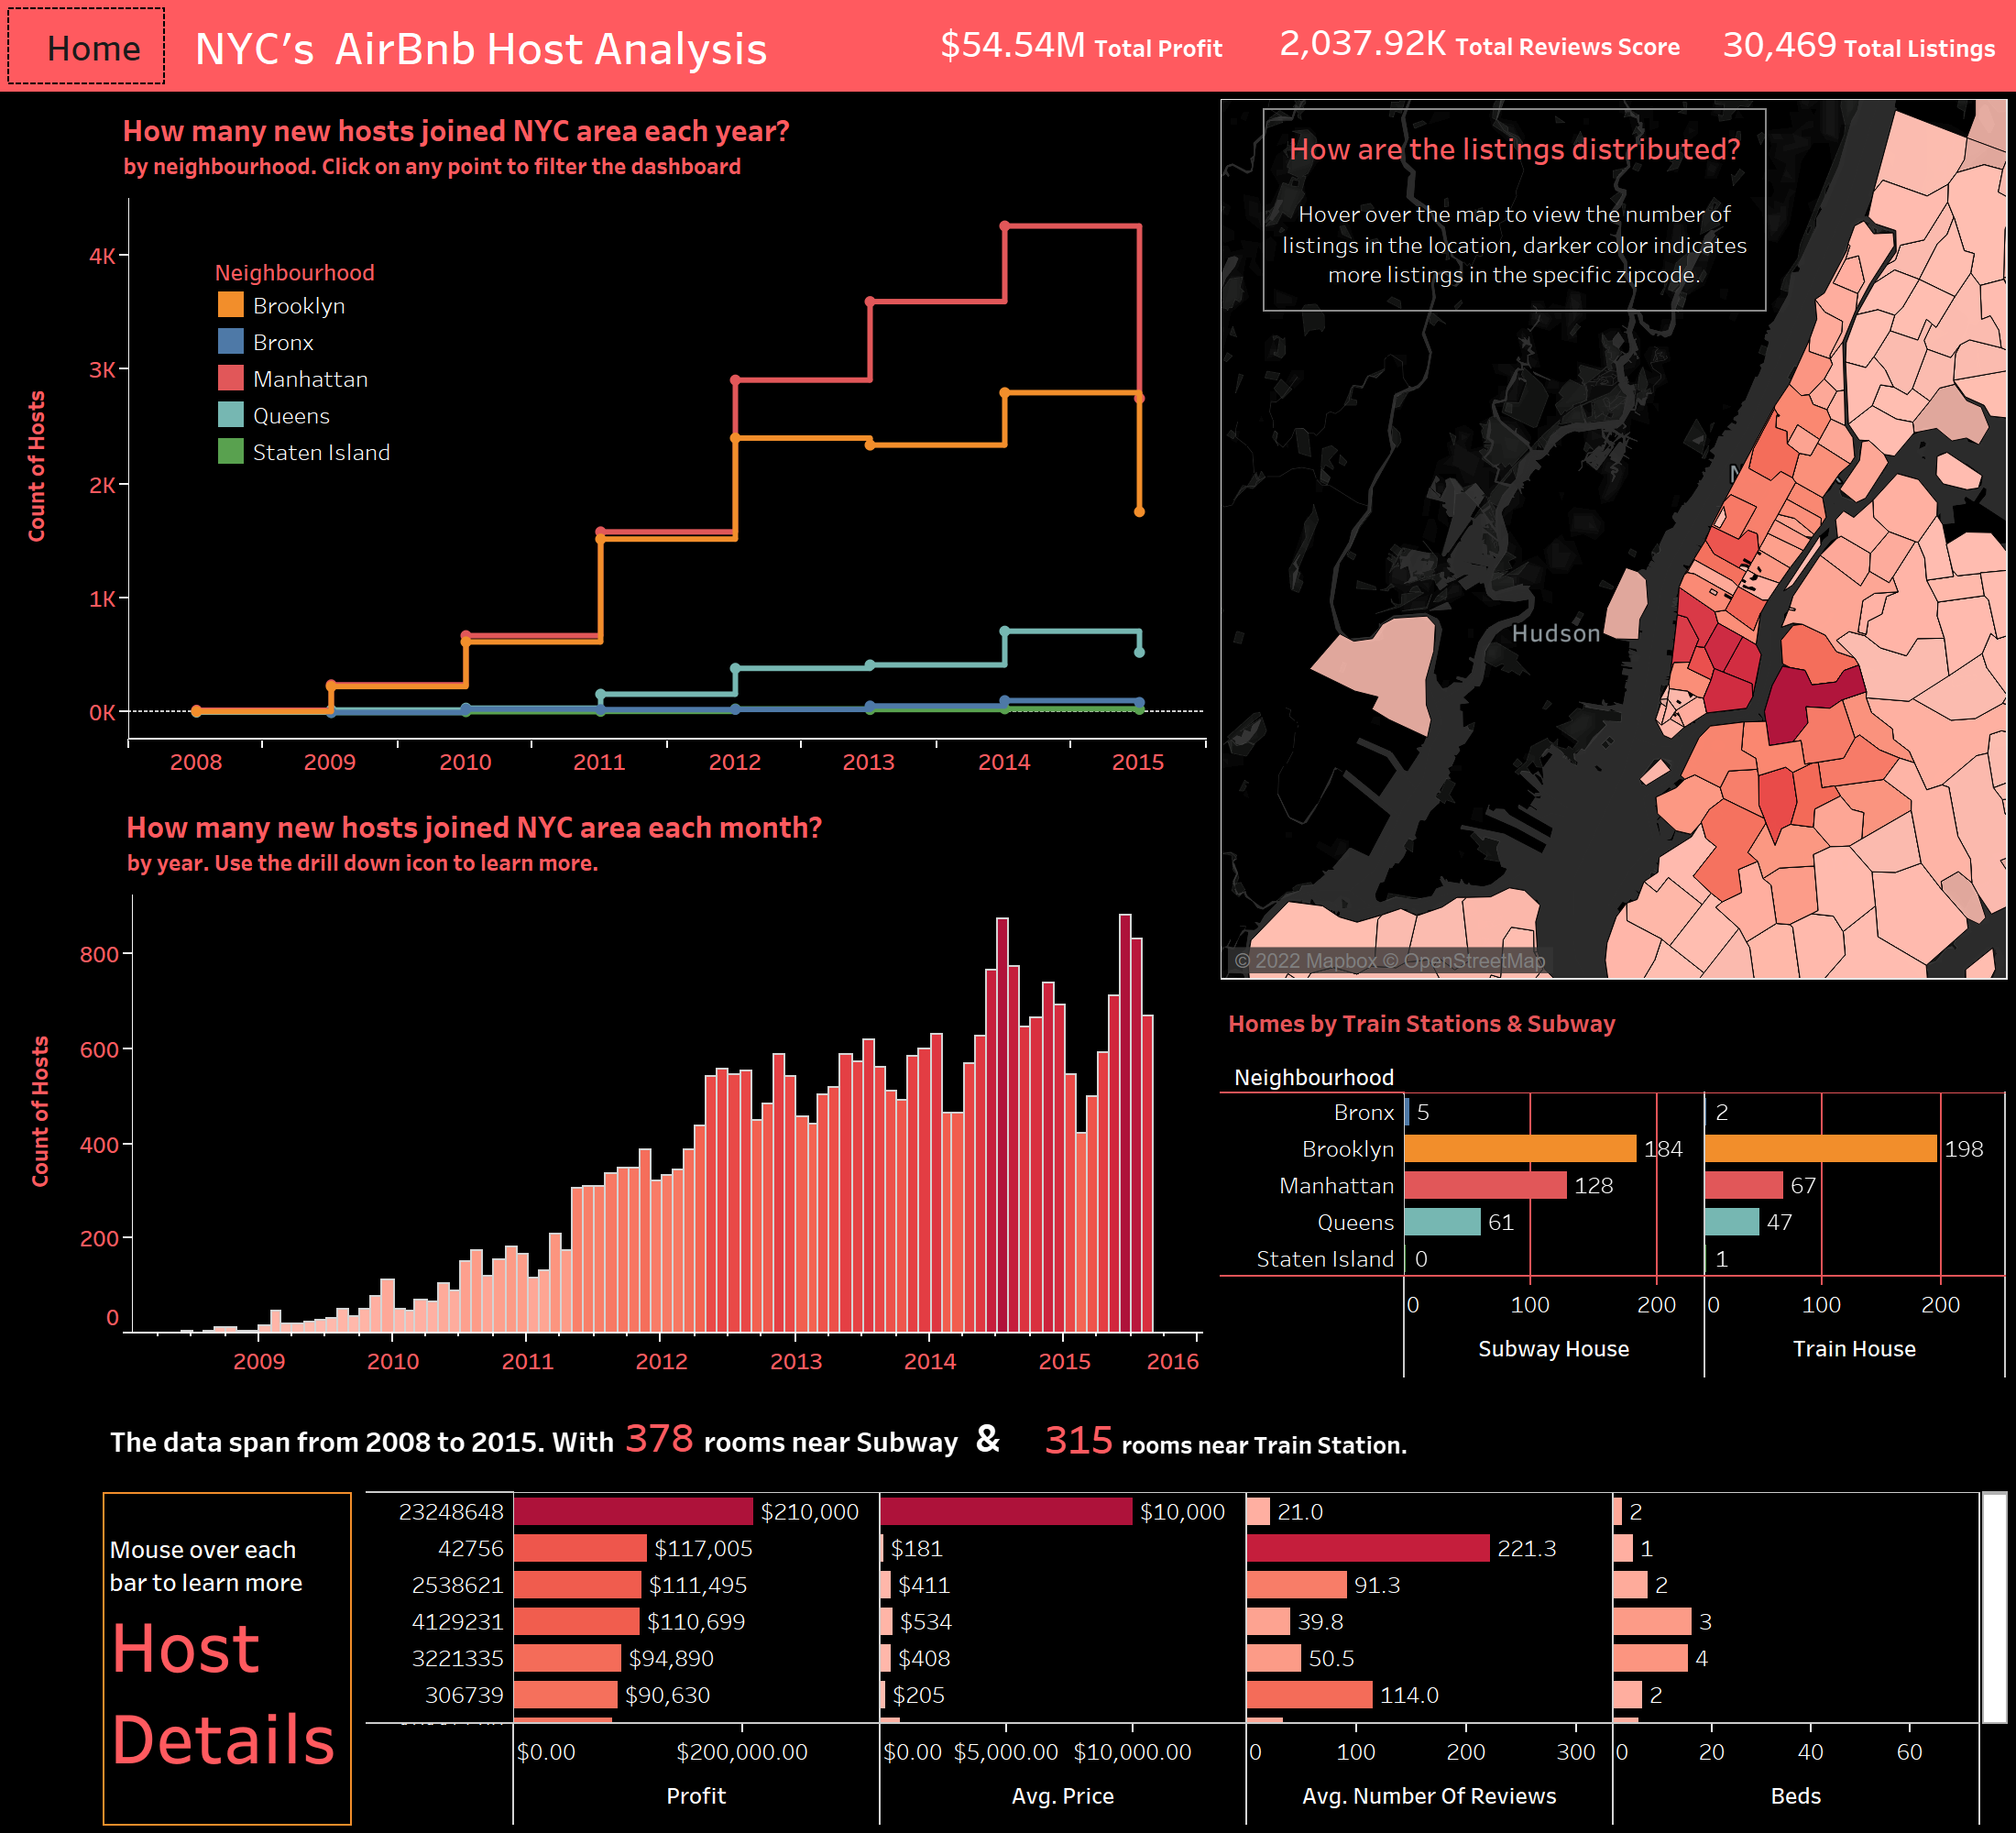

What the dashboard file says about the page in this screenshot:
{"tool":"tableau","page":{"name":"Host","canvas":[1100,1000],"ordinal":2},"visuals":[{"type":"dashboard-object","box":[0,0,94,52]},{"type":"text","box":[94,0,348,52]},{"type":"worksheet","title":"profit","mark":"Automatic","box":[442,0,152,52]},{"type":"worksheet","title":"review score","mark":"Automatic","box":[594,0,219,52]},{"type":"worksheet","title":"total listing","mark":"Automatic","box":[813,0,161,52]},{"type":"worksheet","title":"info (3)","mark":"Shape","box":[974,0,57,52]},{"type":"worksheet","title":"help (3)","mark":"Shape","box":[1031,0,69,52]},{"type":"worksheet","title":"Host by Year","mark":"Line","rows":["Calculation_796574251825901572"],"cols":["Host Since"],"box":[0,52,662,378]},{"type":"worksheet","title":"Number of Host Map","mark":"Multipolygon","box":[662,52,438,489]},{"type":"text","box":[689,59,275,111]},{"type":"legend","title":"Host by Year","param":"[federated.1h5rg7o0l3s0qj1ahh58z10ekste].[none:Neighbourhood:nk]","box":[116,138,140,118]},{"type":"worksheet","title":"Singup by month","mark":"Bar","rows":["Calculation_796574251825901572"],"cols":["Host Since"],"box":[0,430,662,333]},{"type":"worksheet","title":"sub/train house","mark":"Automatic","rows":["Neighbourhood"],"cols":["Calculation_796574251862720521","Subway House (copy)"],"box":[662,541,438,217]},{"type":"blank","box":[0,763,52,47]},{"type":"worksheet","title":"subway (2)","mark":"Automatic","box":[52,763,510,42]},{"type":"worksheet","title":"train","mark":"Automatic","box":[562,763,538,47]},{"type":"blank","box":[0,810,52,190]},{"type":"text","box":[52,810,144,190]},{"type":"worksheet","title":"Host Details","mark":"Automatic","rows":["Host Id"],"cols":["Calculation_17451516273426433","Price","Number Of Reviews","Beds"],"box":[196,810,904,190]}]}

Visuals, with their boxes in screenshot pixels (x1, y1, x2, y2), scaled from the page's 1100x1000 canvas onto the 2016x1833 screenshot:
dashboard-object: [0, 0, 172, 95]
text: [172, 0, 810, 95]
"profit" worksheet: [810, 0, 1089, 95]
"review score" worksheet: [1089, 0, 1490, 95]
"total listing" worksheet: [1490, 0, 1785, 95]
"info (3)" worksheet (Shape marks): [1785, 0, 1890, 95]
"help (3)" worksheet (Shape marks): [1890, 0, 2015, 95]
"Host by Year" worksheet (Line marks): [0, 95, 1213, 788]
"Number of Host Map" worksheet (Multipolygon marks): [1213, 95, 2015, 992]
text: [1263, 108, 1767, 312]
"Host by Year" legend: [213, 253, 469, 469]
"Singup by month" worksheet (Bar marks): [0, 788, 1213, 1399]
"sub/train house" worksheet: [1213, 992, 2015, 1389]
blank: [0, 1399, 95, 1485]
"subway (2)" worksheet: [95, 1399, 1030, 1476]
"train" worksheet: [1030, 1399, 2015, 1485]
blank: [0, 1485, 95, 1832]
text: [95, 1485, 359, 1832]
"Host Details" worksheet: [359, 1485, 2015, 1832]
